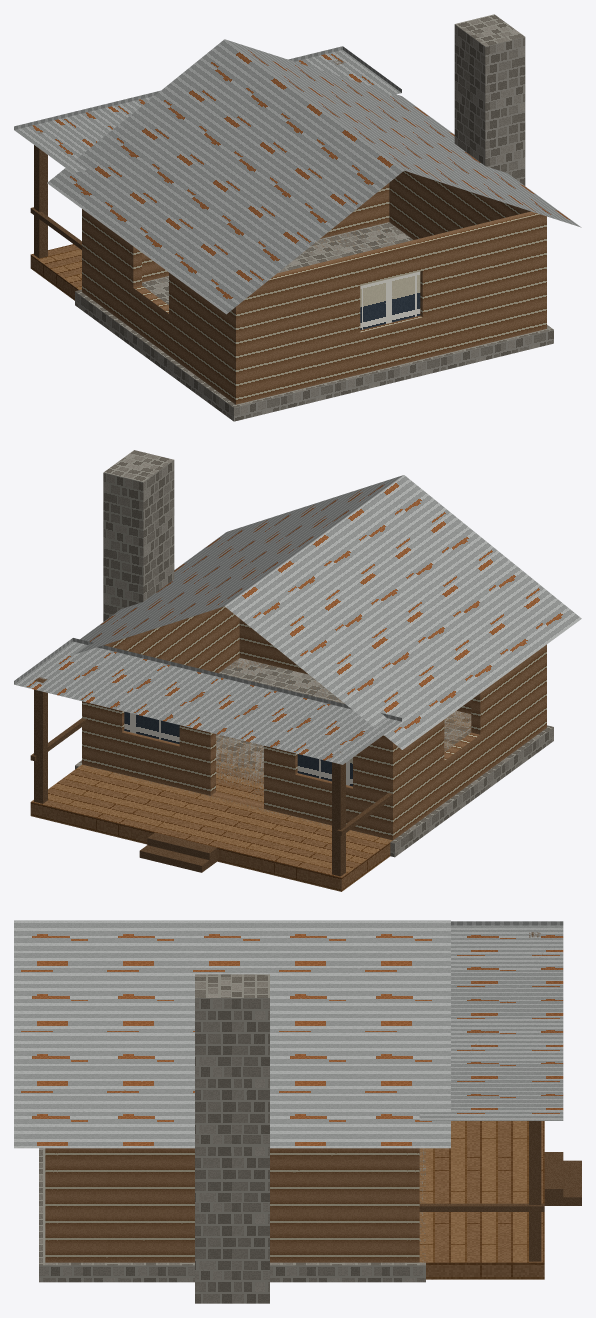
The model's file is log_cabin.glb.
3 views of the same model, one above another, from view 1: azimuth 30°, elevation 25°; view 2: azimuth 150°, elevation 25°; view 3: azimuth 270°, elevation 25° (orthographic). The views are drawn at different scales.
Visible parts, largest first — view 1: log_cabin; view 2: log_cabin; view 3: log_cabin.
Boxes of the visible parts, x1,y1,x2,y2 form: log_cabin: (14,14,581,421); log_cabin: (14,450,581,891); log_cabin: (14,920,581,1303).
Bounding box in the file's own units: 8.4 × 5.4 × 9.1.
Materials: 7 (7 with a texture image).
